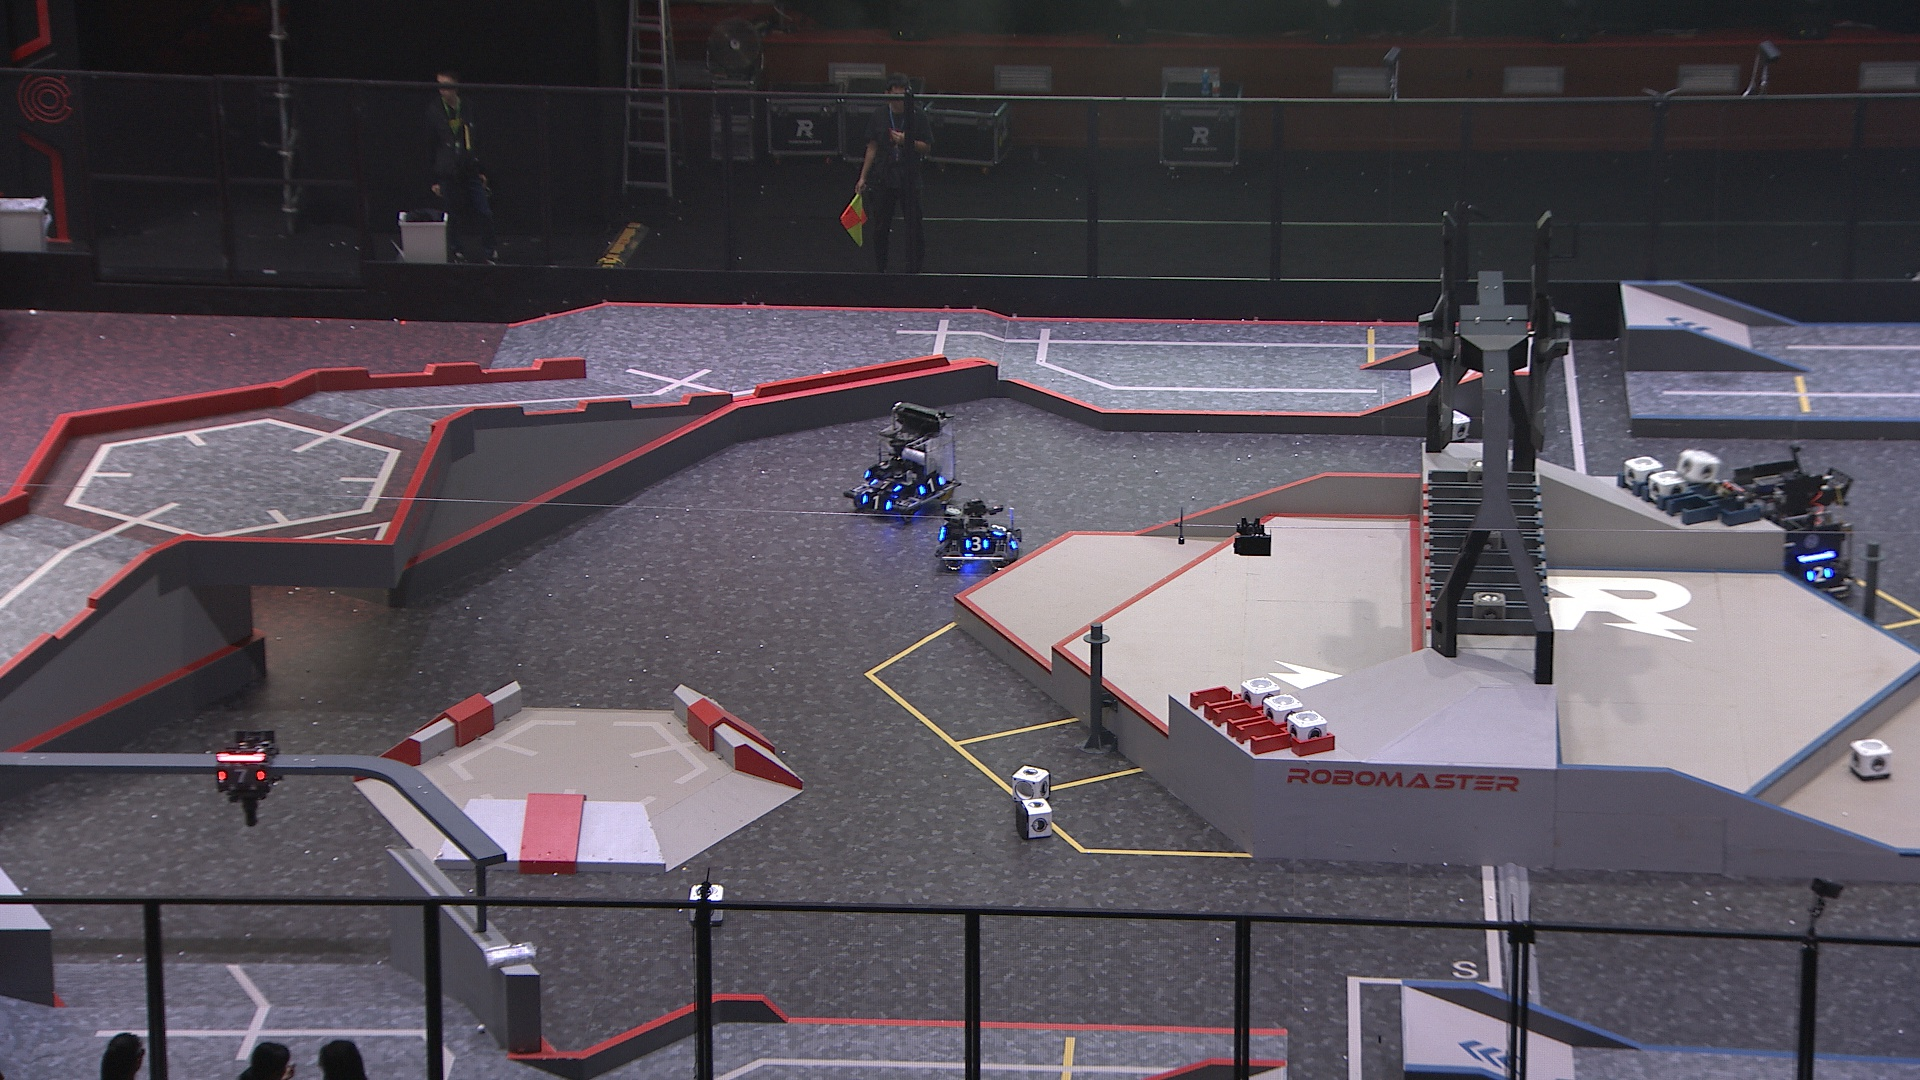armor: (214, 764, 266, 785), (1803, 564, 1836, 588), (856, 493, 891, 514), (869, 475, 903, 495), (918, 473, 942, 498), (961, 534, 989, 555), (986, 520, 1011, 541)
car: (1721, 460, 1858, 603), (847, 401, 955, 520), (934, 493, 1021, 572)
watcher: (211, 723, 281, 825)
